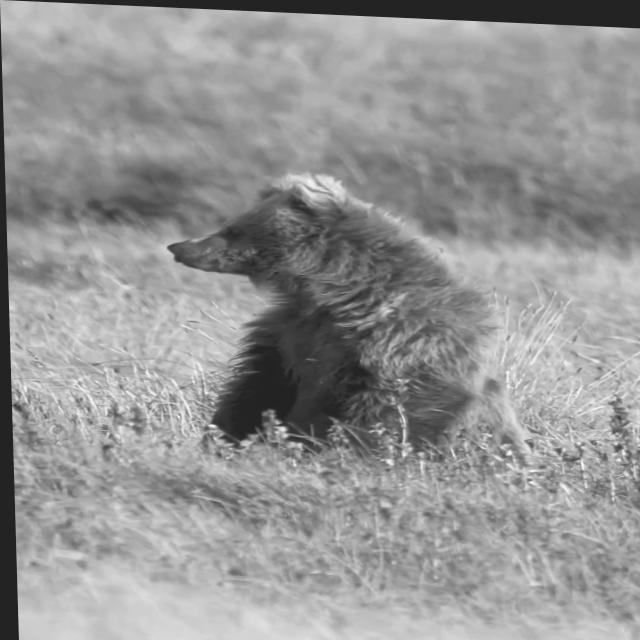Bear: (162, 165, 537, 475)
